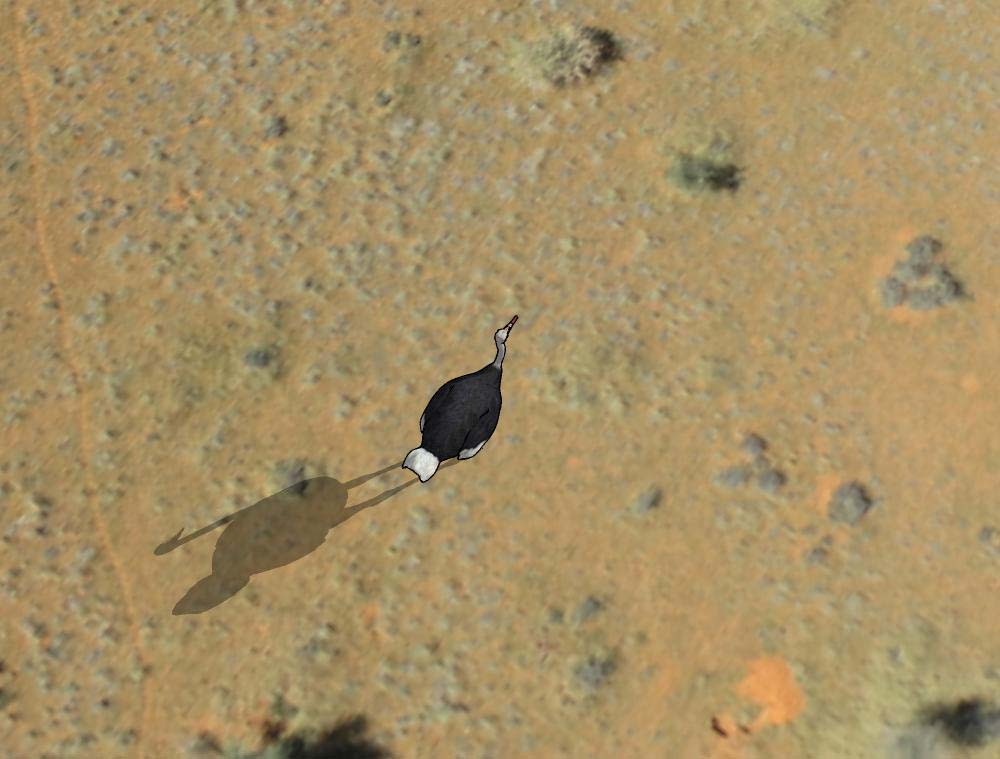springbok: (405, 313, 525, 482)
